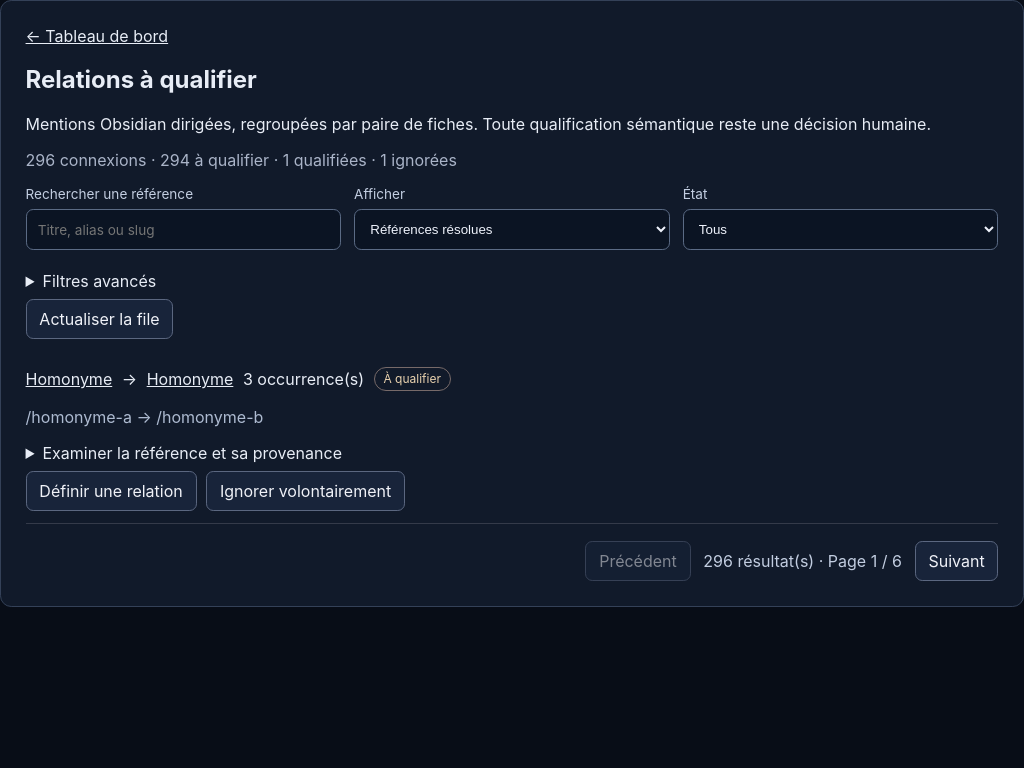
Test: file de qualification › enregistre et révoque une ignorance avec empreinte et contrôle de concurrence, puis actualise les compteurs
Step 1. Click the button "Ignorer volontairement" → point(306, 491), box x1=206 y1=471 x2=405 y2=511
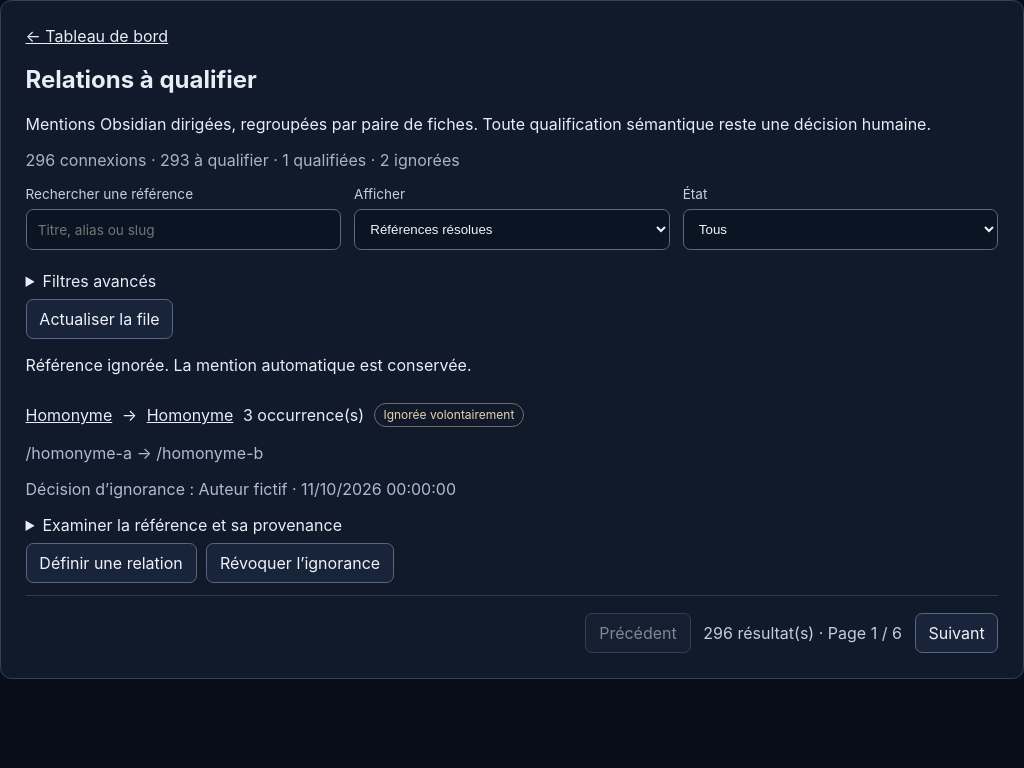
Now the button "Révoquer l’ignorance" is shown
Now the text named "Compteurs globaux" shows "2 ignorées", box x1=26 y1=150 x2=460 y2=170
Step 2. Click the button "Révoquer l’ignorance" → point(300, 563), box x1=206 y1=543 x2=394 y2=583
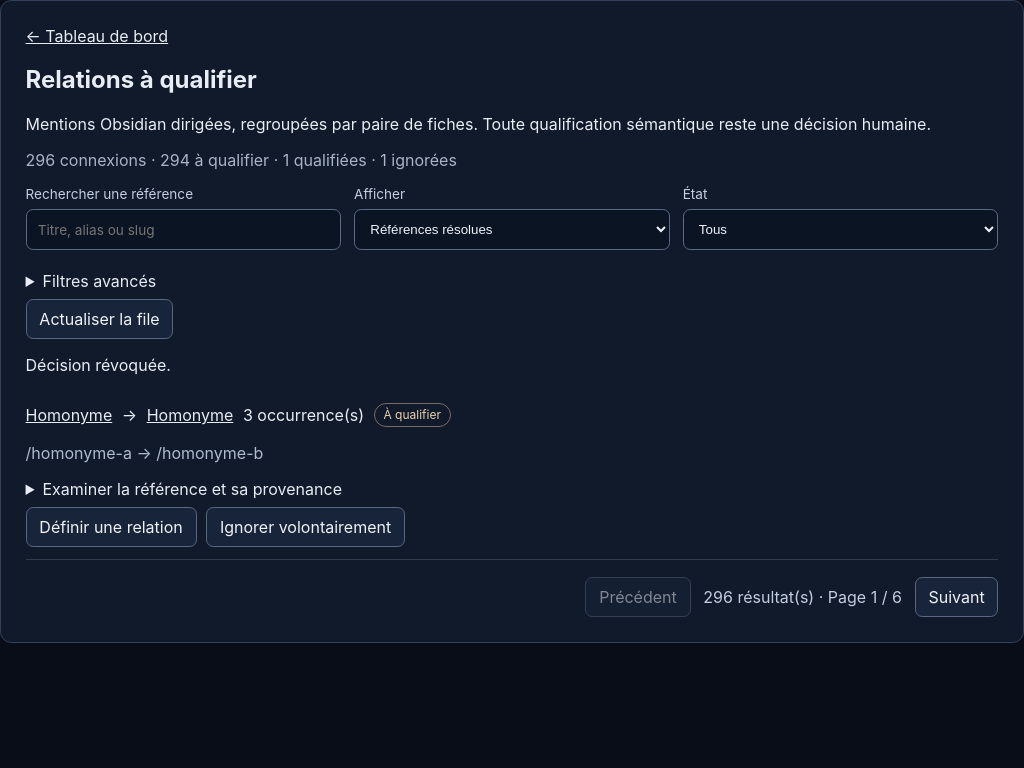
Now the button "Ignorer volontairement" is shown, box x1=206 y1=507 x2=405 y2=547
